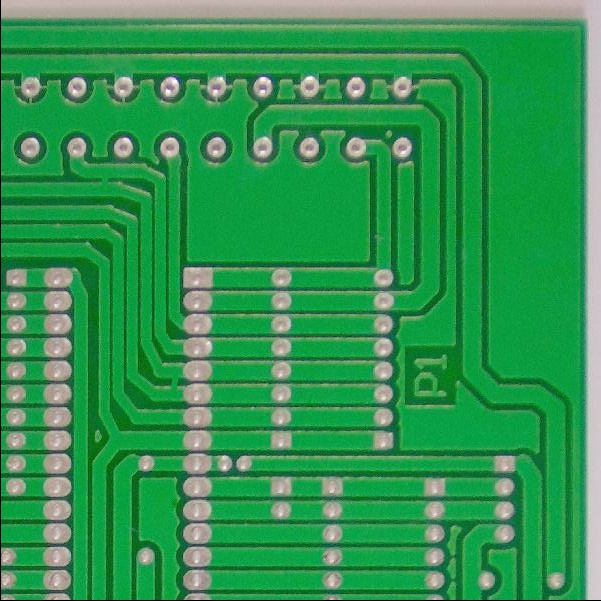short: (83, 164, 121, 197), (157, 367, 192, 401)
